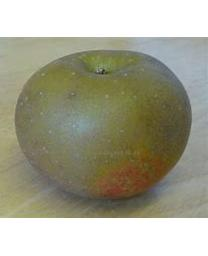apple: (13, 51, 192, 201)
